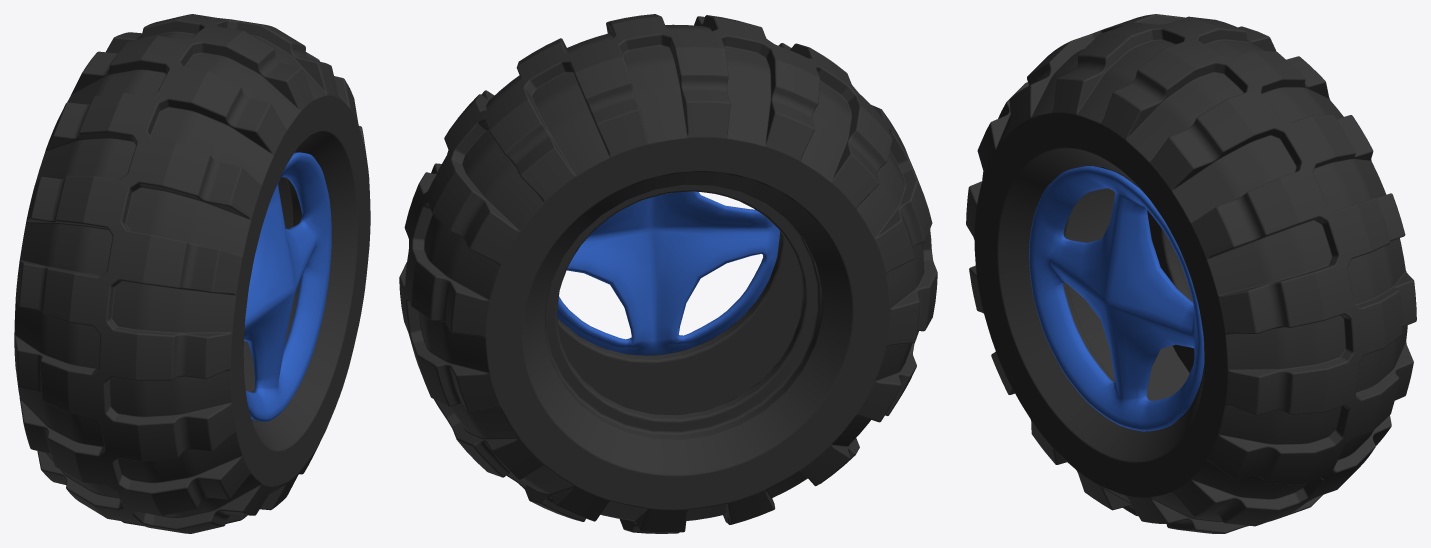
File: Offroad-llantasupder.glb
The picture shows the model from 3 angles, left to right: view 1: azimuth 30°, elevation 25°; view 2: azimuth 150°, elevation 25°; view 3: azimuth 270°, elevation 25°; orthographic projection. The views are drawn at different scales.
Visible parts, largest first — view 1: Circle001_Material #508_0; view 2: Circle001_Material #508_0; view 3: Circle001_Material #508_0.
Boxes of the visible parts, left/top/right/bottom form: Circle001_Material #508_0: left=14, top=14, right=370, bottom=533; Circle001_Material #508_0: left=399, top=14, right=937, bottom=533; Circle001_Material #508_0: left=966, top=14, right=1416, bottom=533.
Bounding box in the file's own units: 53.24 × 56.87 × 49.32.
